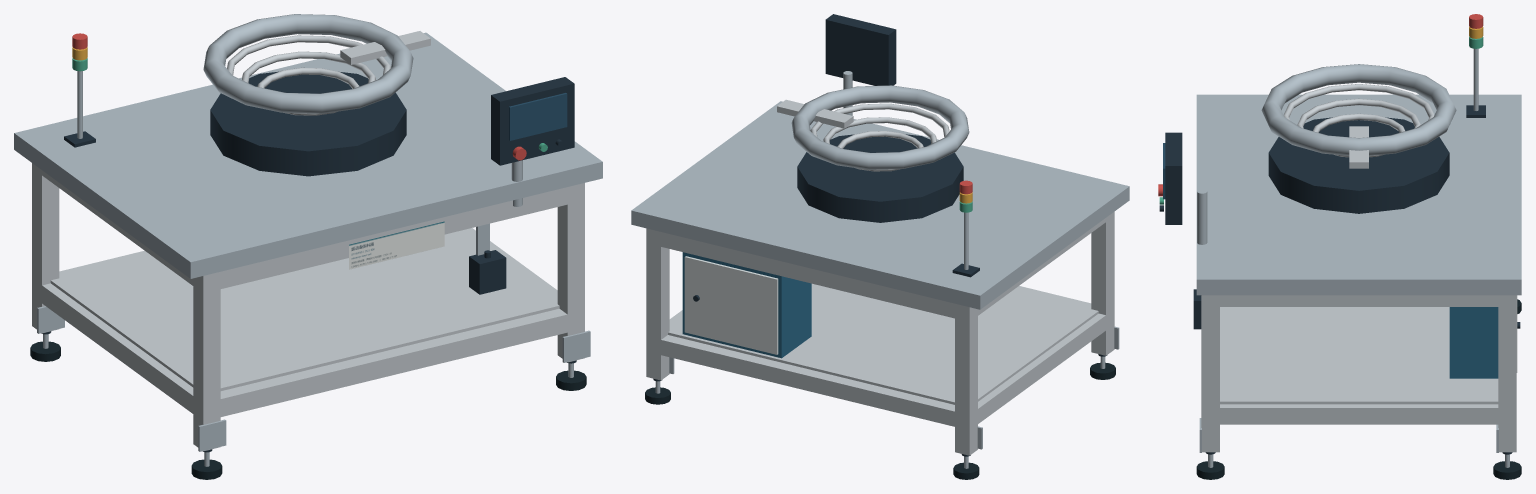
File: vibratory-bowl-cell.glb
3 views of the same model, side by side, from view 1: azimuth 30°, elevation 25°; view 2: azimuth 150°, elevation 25°; view 3: azimuth 270°, elevation 25° (orthographic). The views are drawn at different scales.
Visible parts, largest first — view 1: ClosedMachineBed_28, LowerShelf_29, BowlBase_48, SlottedExtrusion_22, BowlWall_49, SlottedExtrusion_23, SlottedExtrusion_8, SlottedExtrusion_24, ConsoleBack_34, SlottedExtrusion_18, SlottedExtrusion_3, OriginalNameplate_42 (+9 smaller); view 2: ClosedMachineBed_28, LowerShelf_29, BowlBase_48, BackDoor_31, SlottedExtrusion_20, BowlWall_49, SlottedExtrusion_21, ConsoleBack_34, SlottedExtrusion_3, Cabinet_30, SlottedExtrusion_13, SlottedExtrusion_24 (+6 smaller); view 3: ClosedMachineBed_28, LowerShelf_29, BowlBase_48, BowlWall_49, SlottedExtrusion_26, Cabinet_30, SlottedExtrusion_27, SlottedExtrusion_13, SlottedExtrusion_18, ConsoleBack_34, SpiralTrack_52, SpiralTrack_51 (+5 smaller).
Part boxes in pixels (left/top/right/bottom): ClosedMachineBed_28: left=14, top=32, right=602, bottom=278; LowerShelf_29: left=50, top=229, right=559, bottom=390; BowlBase_48: left=210, top=71, right=406, bottom=176; SlottedExtrusion_22: left=212, top=308, right=567, bottom=418; BowlWall_49: left=203, top=14, right=413, bottom=113; SlottedExtrusion_23: left=212, top=187, right=567, bottom=290; SlottedExtrusion_8: left=193, top=272, right=220, bottom=451; SlottedExtrusion_24: left=37, top=283, right=198, bottom=417; ConsoleBack_34: left=491, top=77, right=574, bottom=165; SlottedExtrusion_18: left=557, top=183, right=584, bottom=362; SlottedExtrusion_3: left=32, top=163, right=59, bottom=333; OriginalNameplate_42: left=349, top=221, right=444, bottom=269; ClosedMachineBed_28: left=631, top=101, right=1129, bottom=309; LowerShelf_29: left=668, top=283, right=1098, bottom=404; BowlBase_48: left=797, top=134, right=963, bottom=222; BackDoor_31: left=684, top=256, right=778, bottom=354; SlottedExtrusion_20: left=653, top=335, right=961, bottom=428; BowlWall_49: left=791, top=85, right=969, bottom=169; SlottedExtrusion_21: left=653, top=230, right=961, bottom=319; ConsoleBack_34: left=825, top=14, right=896, bottom=85; SlottedExtrusion_3: left=955, top=304, right=977, bottom=455; Cabinet_30: left=682, top=252, right=811, bottom=358; SlottedExtrusion_13: left=646, top=228, right=669, bottom=380; SlottedExtrusion_24: left=978, top=312, right=1110, bottom=423; ClosedMachineBed_28: left=1196, top=94, right=1521, bottom=295; LowerShelf_29: left=1220, top=307, right=1498, bottom=404; BowlBase_48: left=1268, top=117, right=1449, bottom=213; BowlWall_49: left=1261, top=64, right=1456, bottom=155; SlottedExtrusion_26: left=1210, top=404, right=1507, bottom=424; Cabinet_30: left=1449, top=307, right=1498, bottom=378; SlottedExtrusion_27: left=1210, top=295, right=1504, bottom=306; SlottedExtrusion_13: left=1498, top=295, right=1516, bottom=452; SlottedExtrusion_18: left=1201, top=295, right=1219, bottom=452; ConsoleBack_34: left=1165, top=132, right=1182, bottom=224; SpiralTrack_52: left=1284, top=84, right=1434, bottom=120; SpiralTrack_51: left=1297, top=98, right=1420, bottom=128.
Size of the model in its own units: 1.55 by 1.18 by 1.29.
11 materials, 1 textured.
